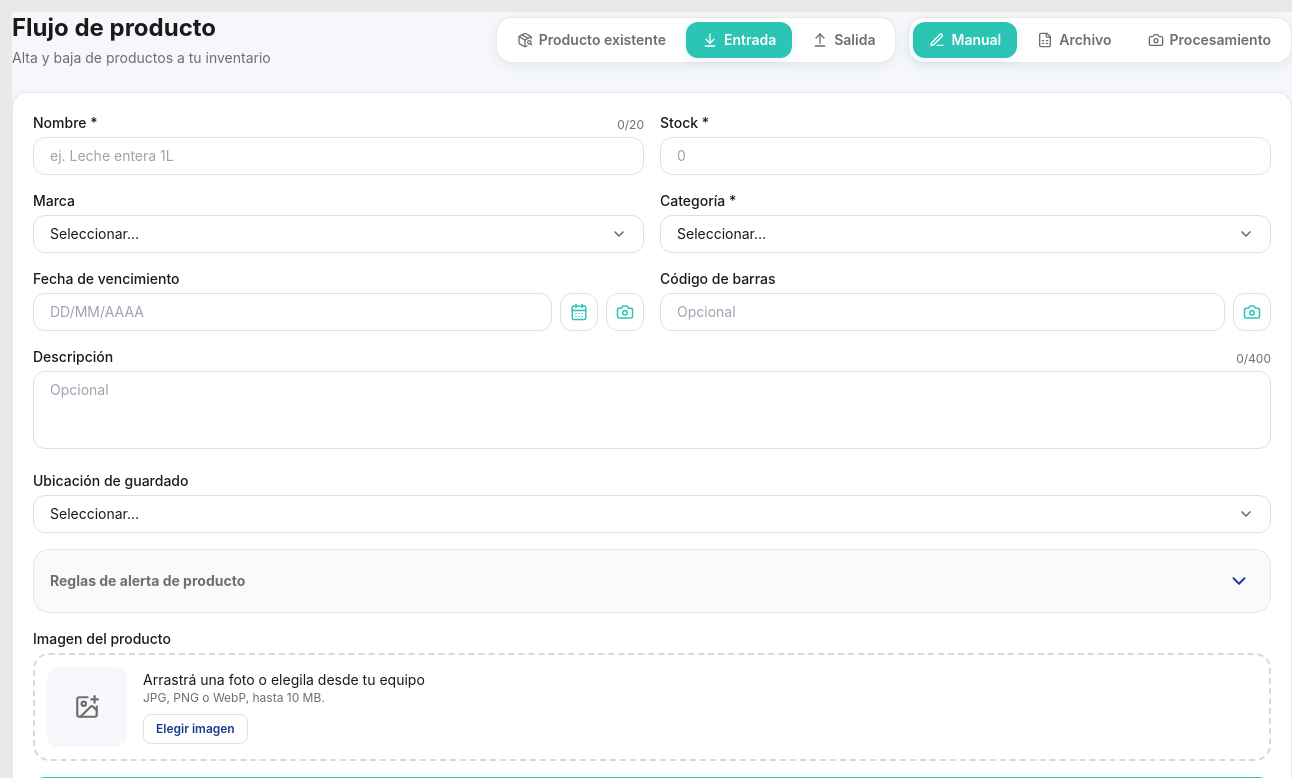
Test: Cargar · manual (entrada) › sugiere productos al escribir el nombre y autocompleta al elegir uno
The image size is (1292, 778).
Step 1. Type "Yerba" into the field named "Nombre" → (338, 156), box [33, 137, 644, 175]
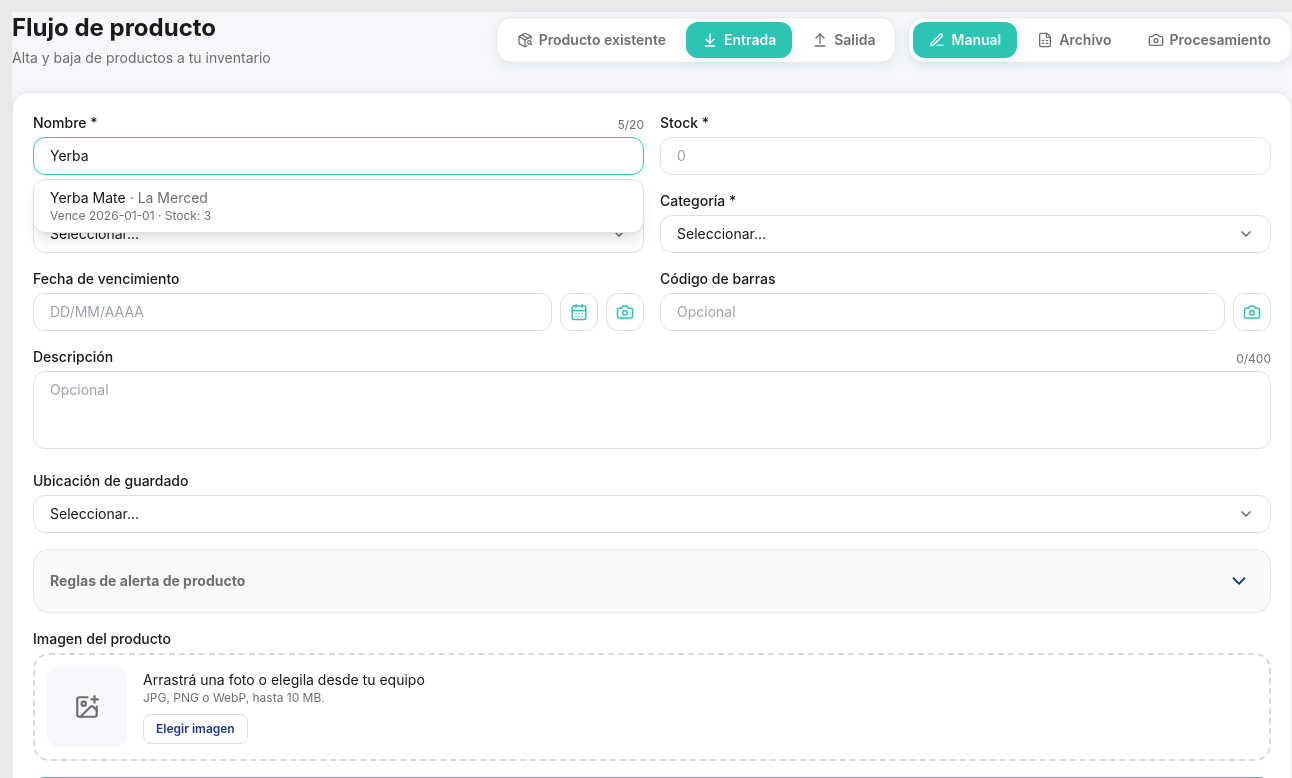
Step 2. Click the button "Yerba Mate · La Merced Vence 2026-01-01 · Stock: 3" → (88, 198), box [34, 180, 643, 232]
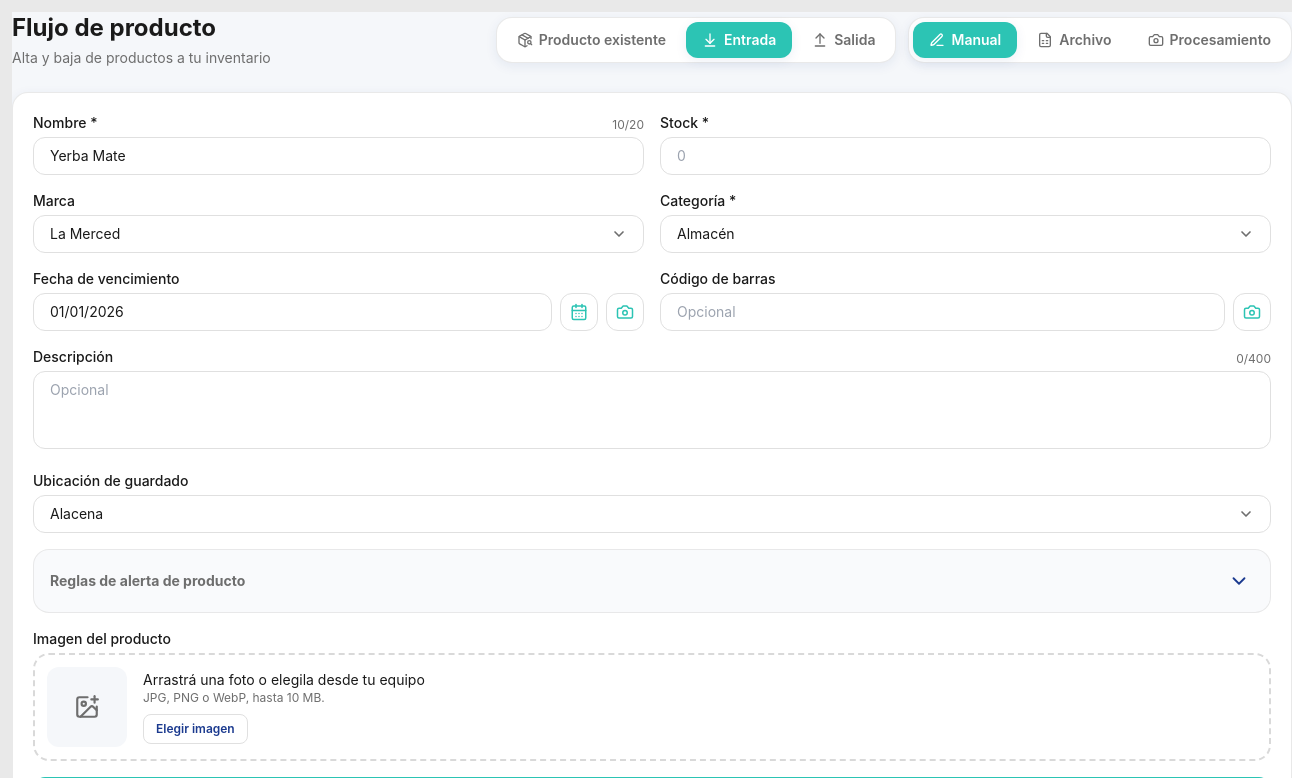
Now the field named "Nombre" holds "Yerba Mate", box [33, 137, 644, 175]
